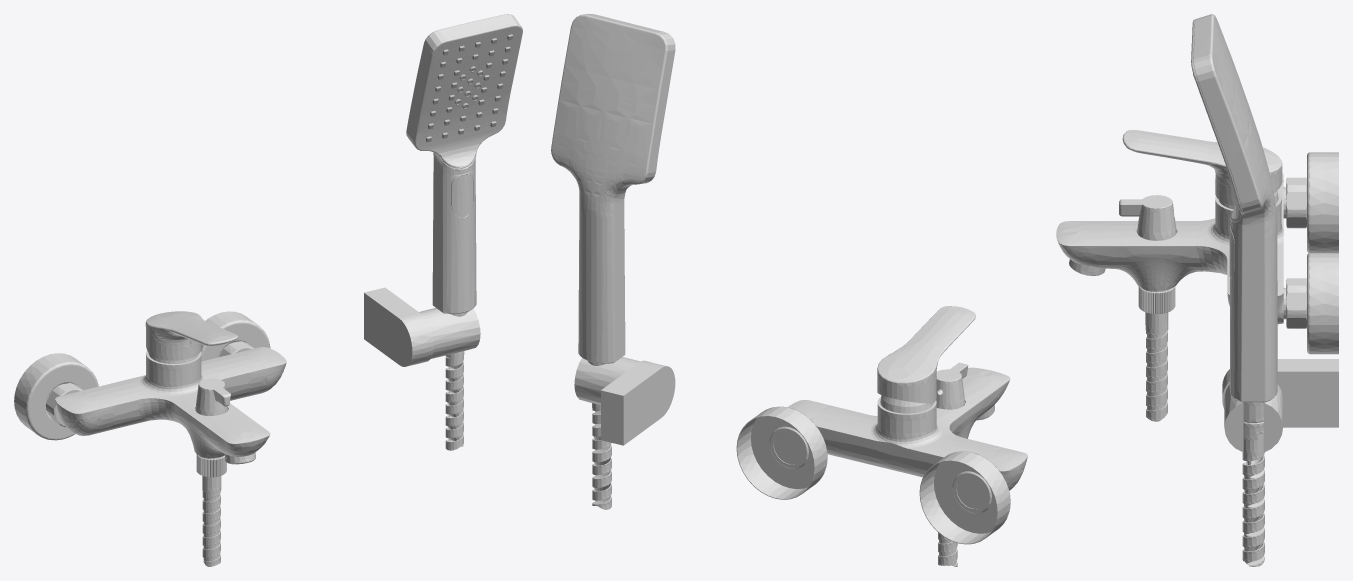
Rendered from AEC_58087.glb.
The picture shows the model from 3 angles, left to right: view 1: azimuth 30°, elevation 25°; view 2: azimuth 150°, elevation 25°; view 3: azimuth 270°, elevation 25°; orthographic projection. The views are drawn at different scales.
Parts seen in each view (by area): view 1: 0; view 2: 0; view 3: 0.
Part boxes in pixels (bbox=[...]): 0: bbox=[14, 14, 522, 566]; 0: bbox=[551, 14, 1027, 566]; 0: bbox=[1056, 14, 1338, 566].
Size of the model in its own units: 0.3952 by 0.3816 by 0.1781.
1 material, 1 textured.
